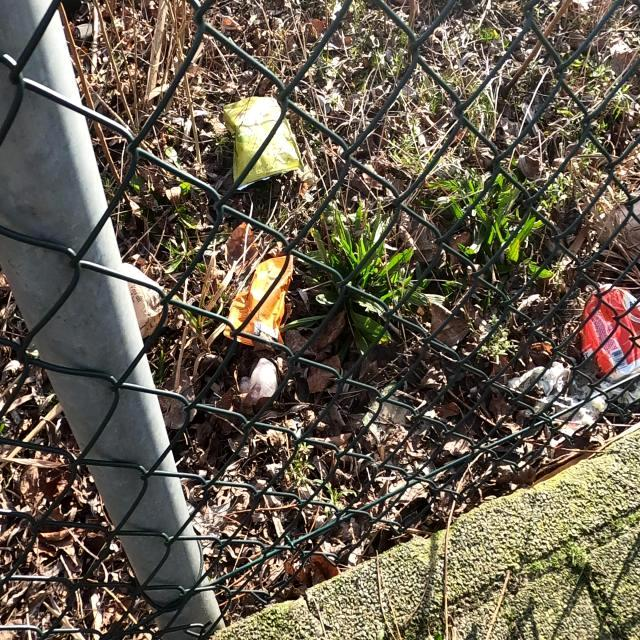Metal: (580, 282, 640, 384)
Plastic: (222, 95, 304, 191), (222, 254, 294, 348)
